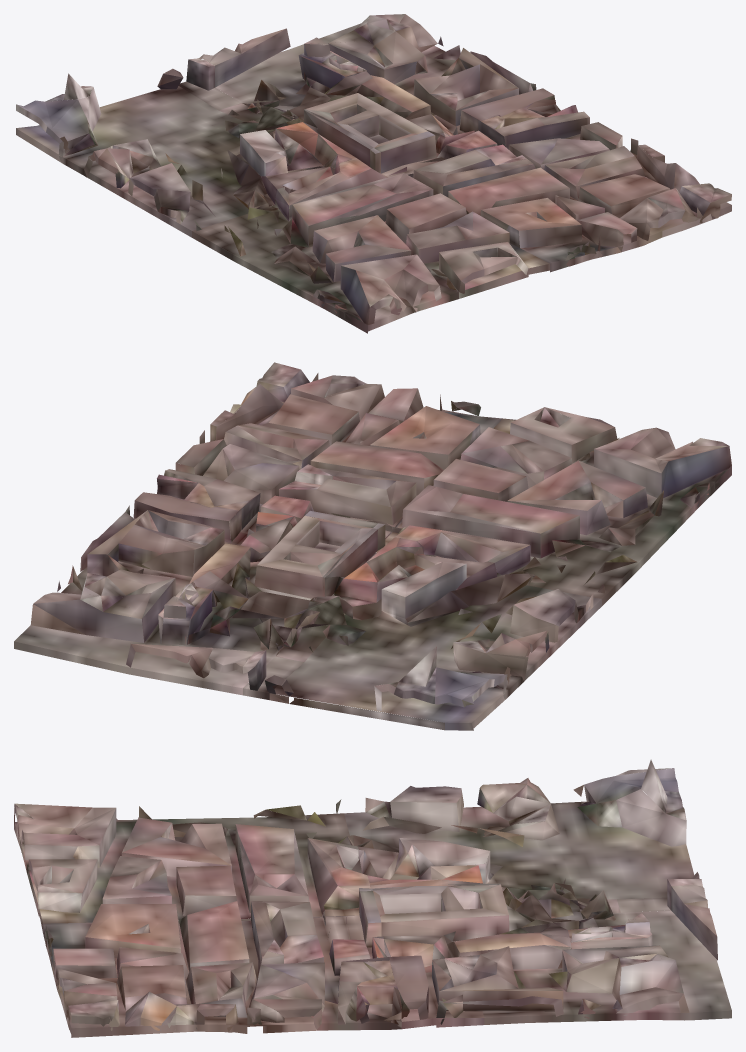
3 views of the same model, one above another, from view 1: azimuth 30°, elevation 25°; view 2: azimuth 150°, elevation 25°; view 3: azimuth 270°, elevation 25° (orthographic). The views are drawn at different scales.
Parts seen in each view (by area): view 1: Mesh_0; view 2: Mesh_0; view 3: Mesh_0.
Boxes of the visible parts, box(x1,y1,x2,y2) form: Mesh_0: box(16, 14, 731, 333); Mesh_0: box(14, 362, 731, 730); Mesh_0: box(14, 759, 731, 1037).
Size of the model in its own units: 535 by 74.69 by 659.
2 materials, 2 textured.
